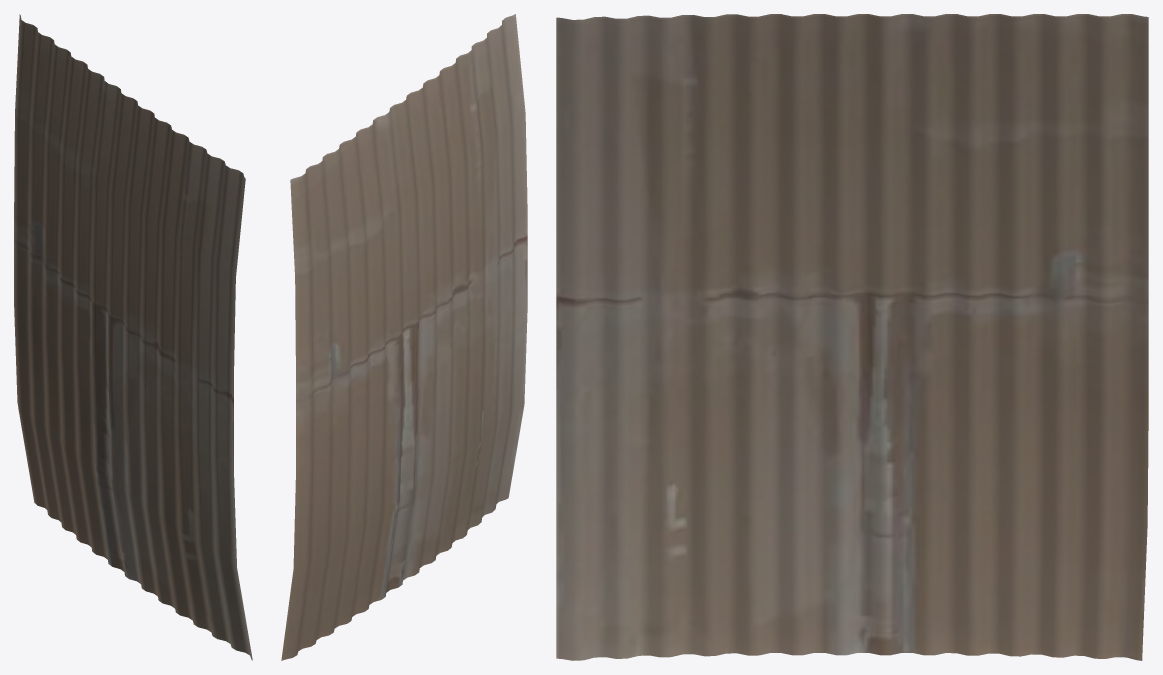
The picture shows the model from 3 angles, left to right: view 1: azimuth 30°, elevation 25°; view 2: azimuth 150°, elevation 25°; view 3: azimuth 270°, elevation 25°; orthographic projection. The views are drawn at different scales.
Parts seen in each view (by area): view 1: body0_model0_lod0_mesh0; view 2: body0_model0_lod0_mesh0; view 3: body0_model0_lod0_mesh0.
Part boxes in pixels (bbox=[...]): body0_model0_lod0_mesh0: bbox=[14, 14, 252, 660]; body0_model0_lod0_mesh0: bbox=[281, 14, 527, 660]; body0_model0_lod0_mesh0: bbox=[556, 14, 1148, 660].
Size of the model in its own units: 7.98 by 128 by 108.
1 material, 1 textured.
